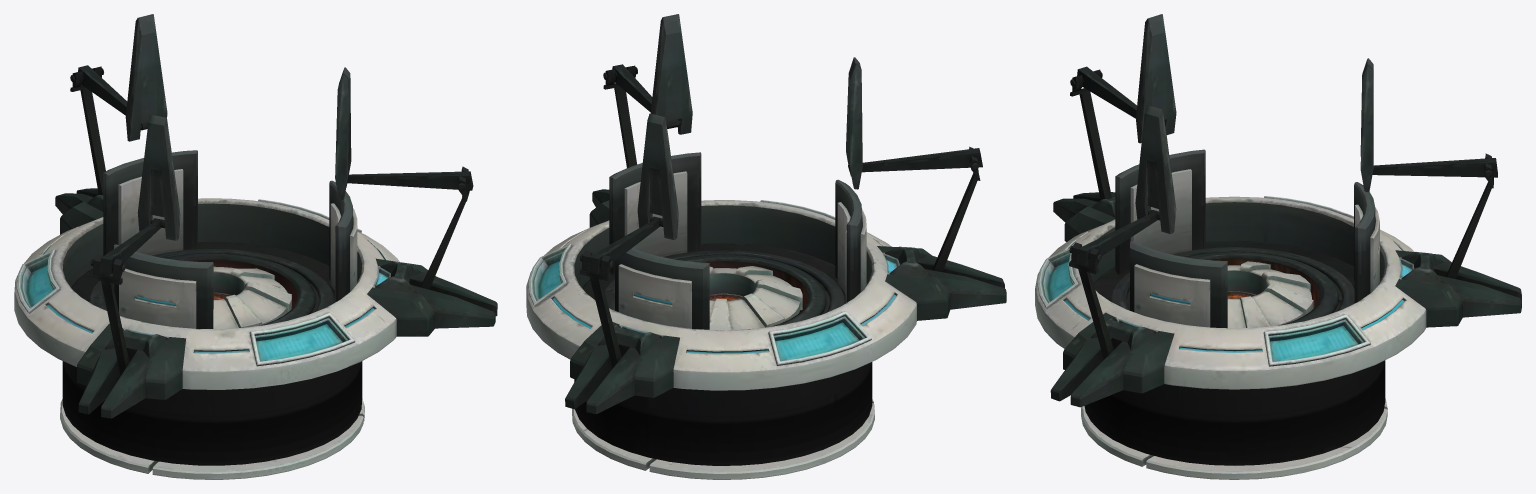
The model's file is pellet_catcher.glb.
3 renders of one model, left to right at view 1: azimuth 30°, elevation 25°; view 2: azimuth 150°, elevation 25°; view 3: azimuth 270°, elevation 25°, orthographic.
Parts seen in each view (by area): view 1: combine_ball_catcher; view 2: combine_ball_catcher; view 3: combine_ball_catcher.
Part boxes in pixels (<box>): combine_ball_catcher: <box>14,14,497,479</box>; combine_ball_catcher: <box>526,14,1006,479</box>; combine_ball_catcher: <box>1035,14,1521,479</box>.
Size of the model in its own units: 1.2 by 0.9638 by 1.21.
Materials: 1 (1 with a texture image).
